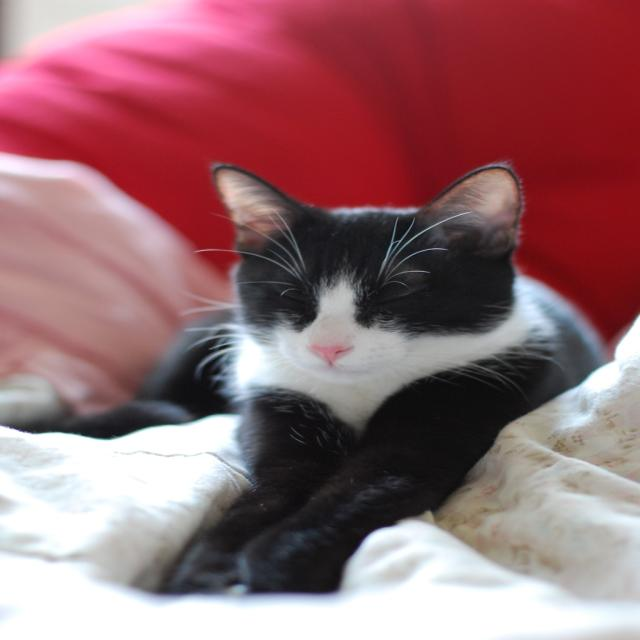Cat: (152, 156, 609, 594)
